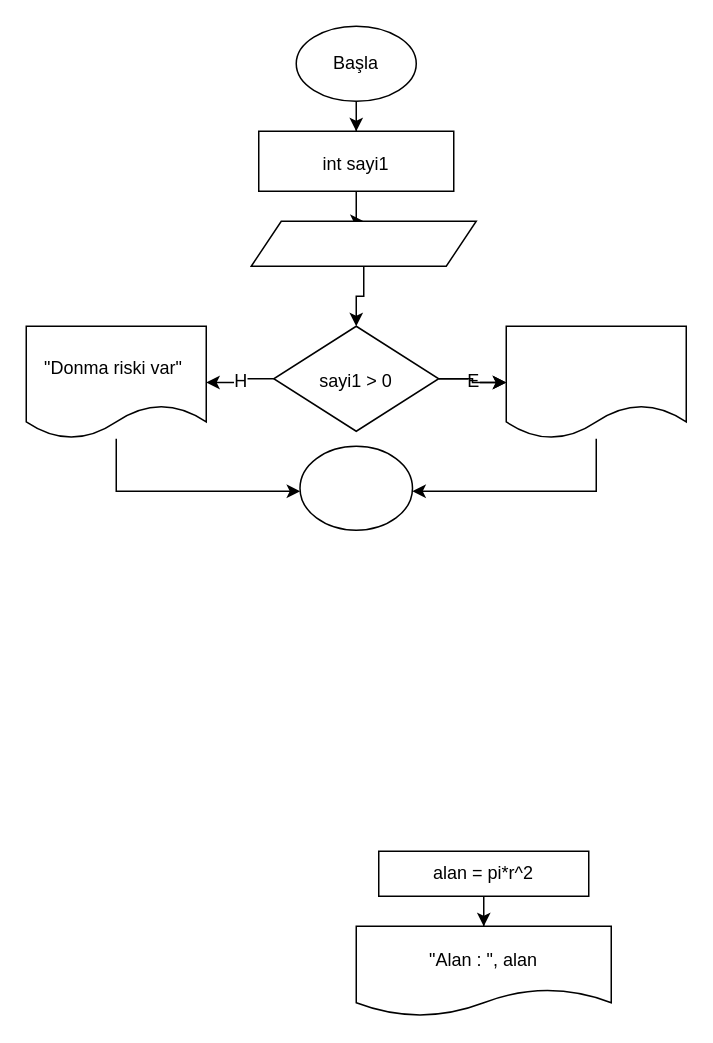
This 713x1043 diagram has some shape labels left out. The centre of each missing label's shape, as x and y in pixels:
"Donma riski yok ": (595,382)
"Sıcaklık Girin:", sayi1: (363,243)
Dur: (355,487)
